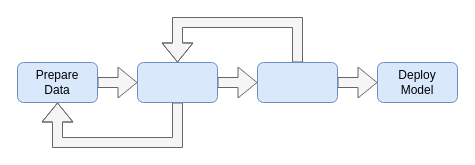
This 475x165 diagram has some shape labels left out. The shapes that lost their labels are listed below. From the top down, each one's centre as x and y in pixels, then its label:
At point (177, 82): "Train Model".
At point (297, 82): "Evaluate Model".
